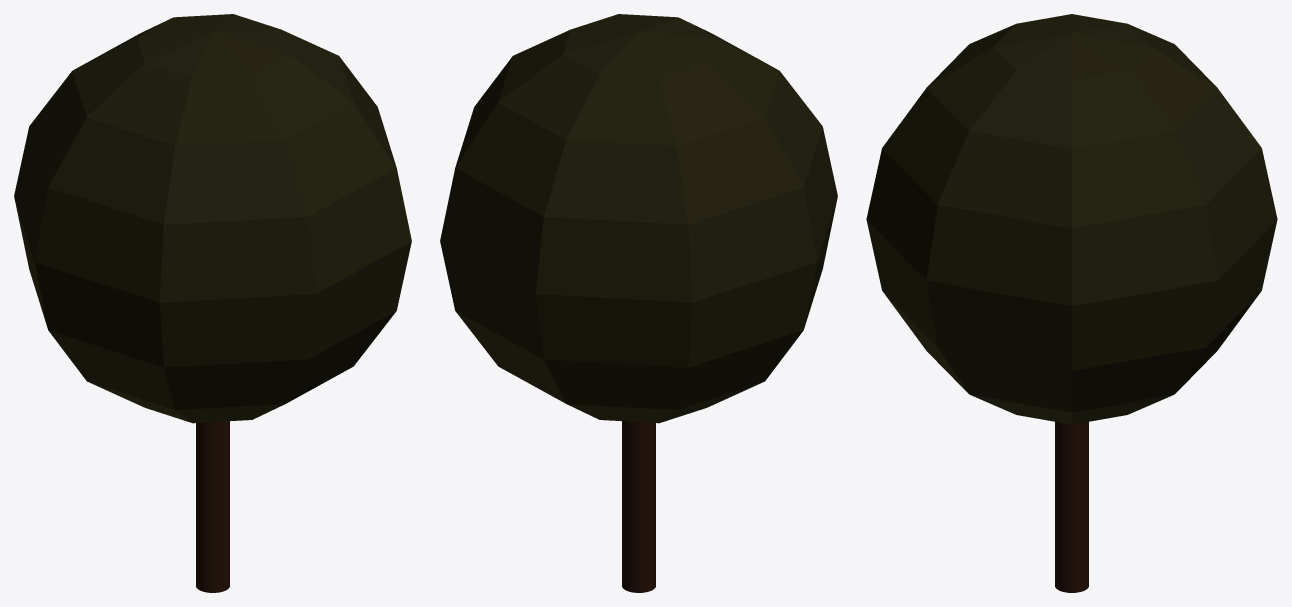
Rendered from tree.obj.
3 views of the same model, side by side, from view 1: azimuth 30°, elevation 25°; view 2: azimuth 150°, elevation 25°; view 3: azimuth 270°, elevation 25° (orthographic).
Parts seen in each view (by area): view 1: Sphere; view 2: Sphere; view 3: Sphere.
Part boxes in pixels (bbox=[...]): Sphere: bbox=[14, 14, 411, 592]; Sphere: bbox=[440, 14, 837, 592]; Sphere: bbox=[866, 14, 1277, 592].
Size of the model in its own units: 6 by 8.9 by 6.
